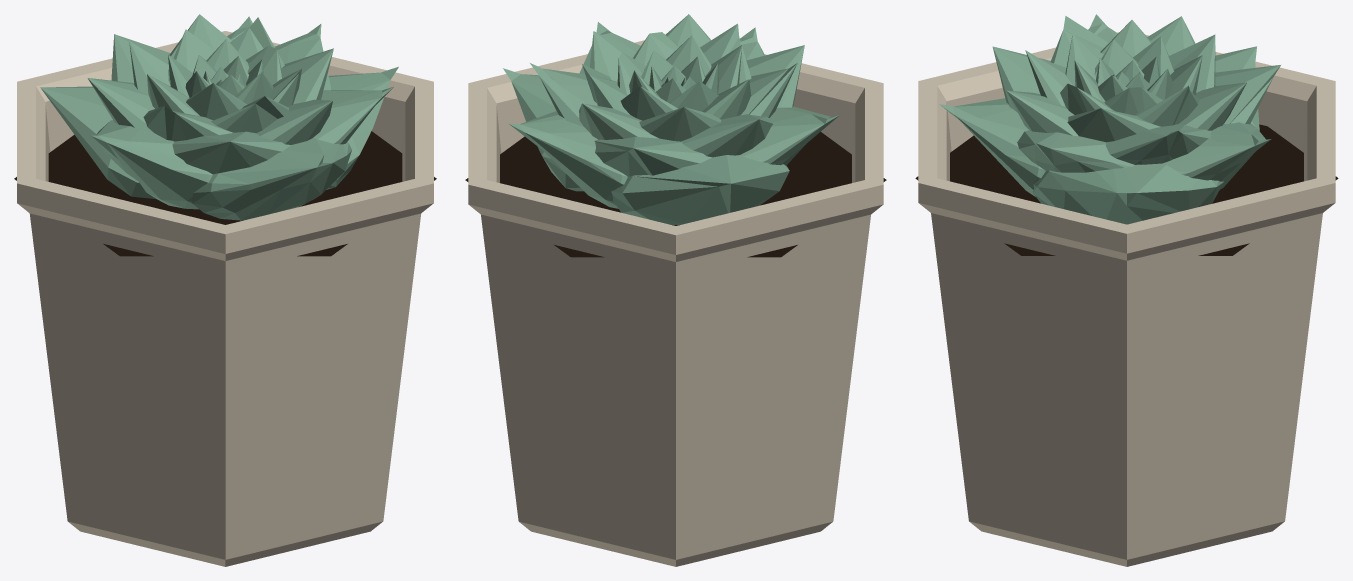
Rendered from maceta.glb.
3 views of the same model, side by side, from view 1: azimuth 30°, elevation 25°; view 2: azimuth 150°, elevation 25°; view 3: azimuth 270°, elevation 25° (orthographic).
Parts seen in each view (by area): view 1: Maceta hexagonal, Suculenta, Tierra; view 2: Maceta hexagonal, Suculenta, Tierra; view 3: Maceta hexagonal, Suculenta, Tierra.
Part boxes in pixels (bbox=[...]): Maceta hexagonal: bbox=[17, 31, 433, 566]; Suculenta: bbox=[40, 14, 398, 220]; Tierra: bbox=[14, 131, 436, 256]; Maceta hexagonal: bbox=[468, 40, 883, 566]; Suculenta: bbox=[503, 14, 840, 224]; Tierra: bbox=[465, 132, 886, 257]; Maceta hexagonal: bbox=[918, 32, 1335, 566]; Suculenta: bbox=[939, 14, 1280, 224]; Tierra: bbox=[915, 124, 1338, 255].
Bounding box in the file's own units: 0.132 × 0.134 × 0.116.
